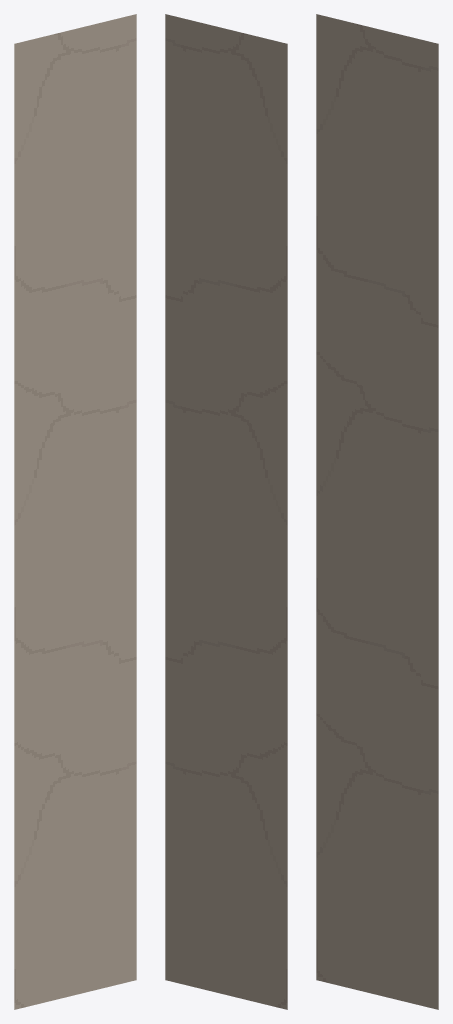
Rendered from kd_stage_135b75_4_159_bounded_portal_piece_2.glb.
3 renders of one model, left to right at view 1: azimuth 30°, elevation 25°; view 2: azimuth 150°, elevation 25°; view 3: azimuth 330°, elevation 25°, orthographic.
Parts seen in each view (by area): view 1: kd_stage_135b75_4_159_bounded_portal_piece_2; view 2: kd_stage_135b75_4_159_bounded_portal_piece_2; view 3: kd_stage_135b75_4_159_bounded_portal_piece_2.
Part boxes in pixels (box(x1,y1,x2,y2)): kd_stage_135b75_4_159_bounded_portal_piece_2: box(14, 14, 136, 1009); kd_stage_135b75_4_159_bounded_portal_piece_2: box(165, 14, 287, 1009); kd_stage_135b75_4_159_bounded_portal_piece_2: box(316, 14, 438, 1009).
Size of the model in its own units: 0.1439 by 1.09 by 9.54e-07.
1 material, 1 textured.
